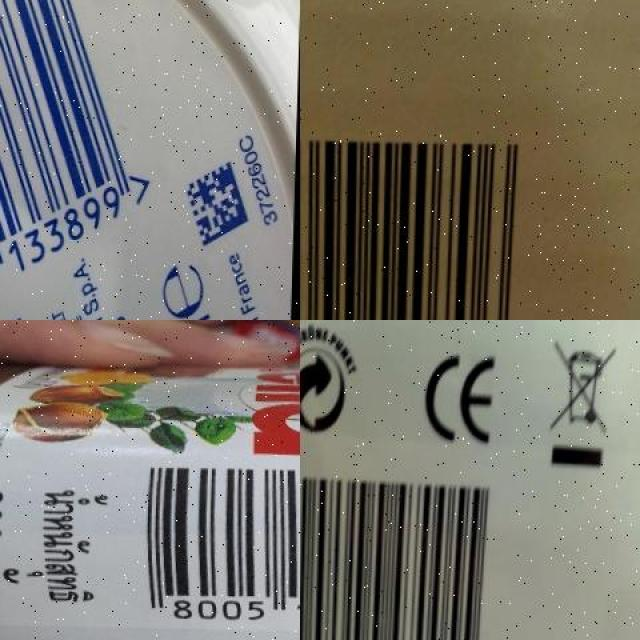Barcode: (300, 100, 555, 320), (0, 0, 169, 320), (300, 453, 520, 640), (129, 448, 300, 628)
